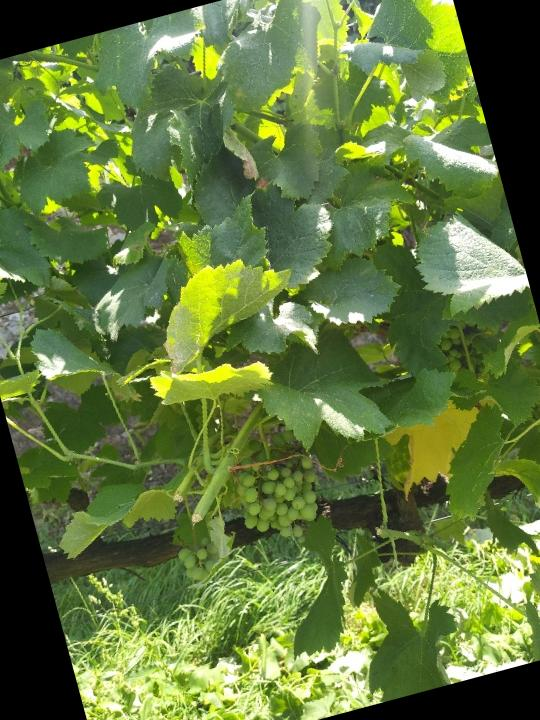grape: (223, 422, 335, 558)
